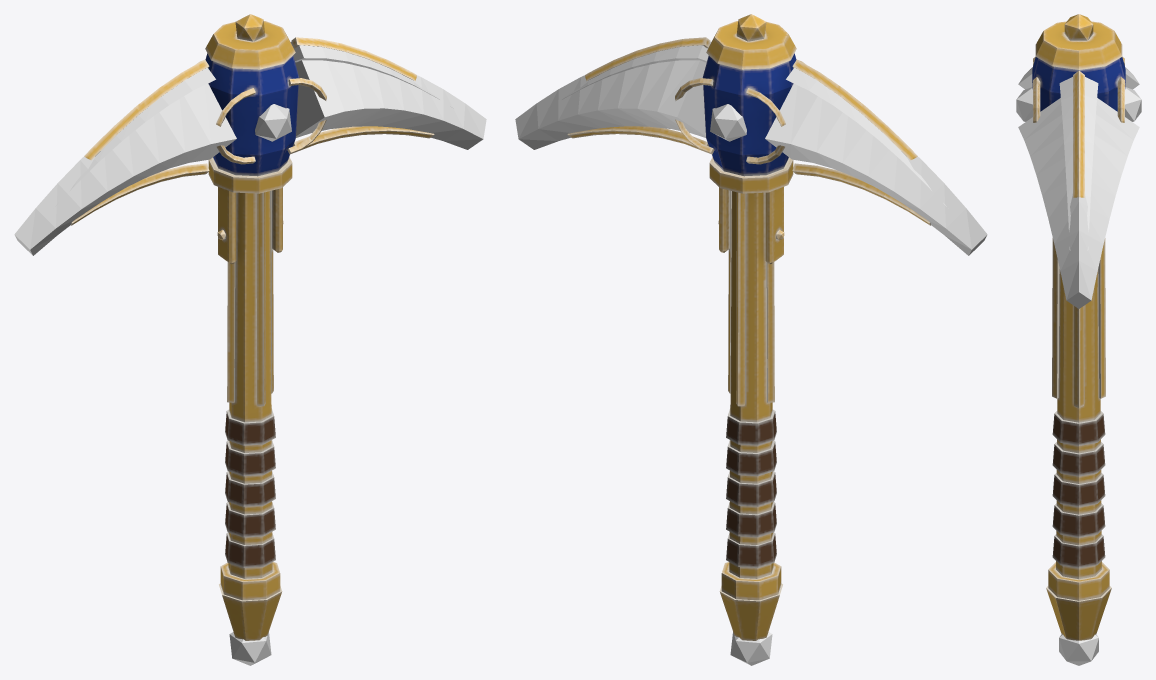
File: SapphirePickaxe.glb
3 renders of one model, left to right at view 1: azimuth 30°, elevation 25°; view 2: azimuth 150°, elevation 25°; view 3: azimuth 270°, elevation 25°, orthographic.
Visible parts, largest first — view 1: Body__Tex, Head__Crystal, Head__Accent, Head__Gem; view 2: Body__Tex, Head__Crystal, Head__Accent, Head__Gem; view 3: Body__Tex, Head__Crystal, Head__Accent, Head__Gem.
Part boxes in pixels (x1,y1,x2,y2): Body__Tex: [71, 14, 434, 640]; Head__Crystal: [14, 60, 486, 255]; Head__Accent: [55, 41, 453, 206]; Head__Gem: [229, 104, 291, 665]; Body__Tex: [567, 14, 930, 640]; Head__Crystal: [515, 60, 987, 255]; Head__Accent: [548, 41, 946, 206]; Head__Gem: [710, 104, 772, 665]; Body__Tex: [1032, 14, 1125, 640]; Head__Crystal: [1018, 67, 1139, 308]; Head__Accent: [1059, 77, 1098, 250]; Head__Gem: [1016, 87, 1141, 665].
Size of the model in its own units: 3.23 by 4.26 by 0.7412.
Materials: 1 (1 with a texture image).
